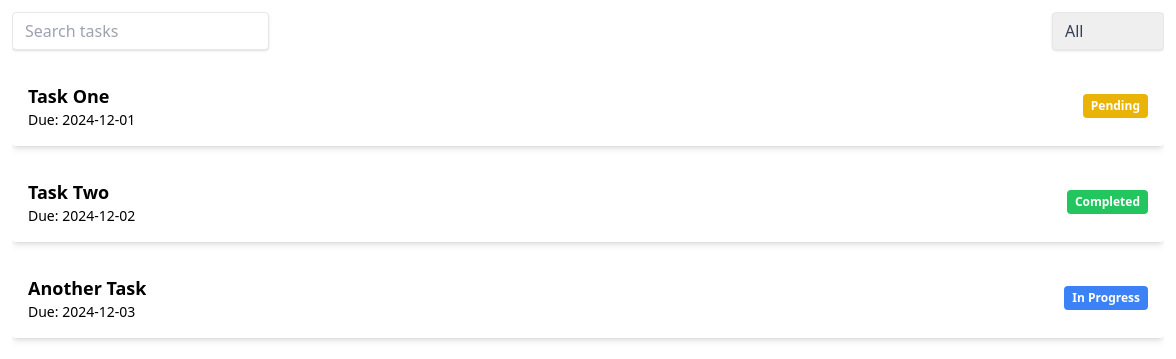
Test: TaskList › shows "No Items" when no tasks match filter/search
The width and height of the screenshot is (1176, 359).
Type "Nonexistent" into the field with placeholder "Search tasks". click: (140, 31)
box: [12, 12, 269, 50]
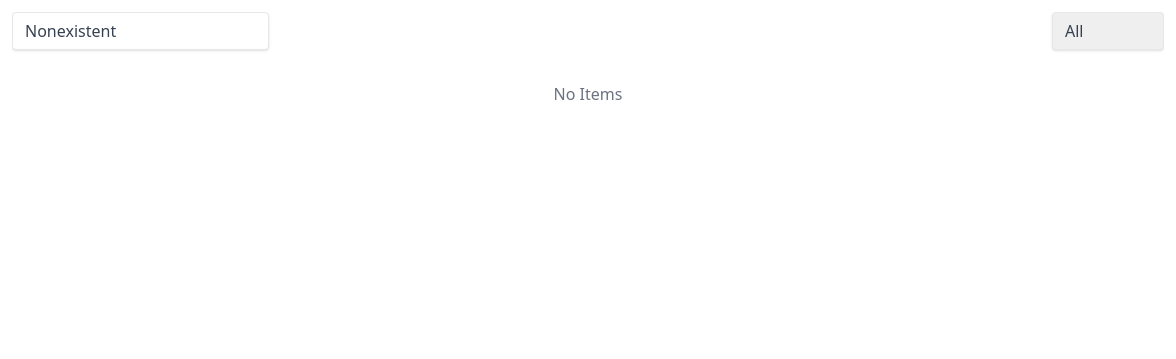
Check: the text "No Items" is shown, box [554, 83, 622, 105]
